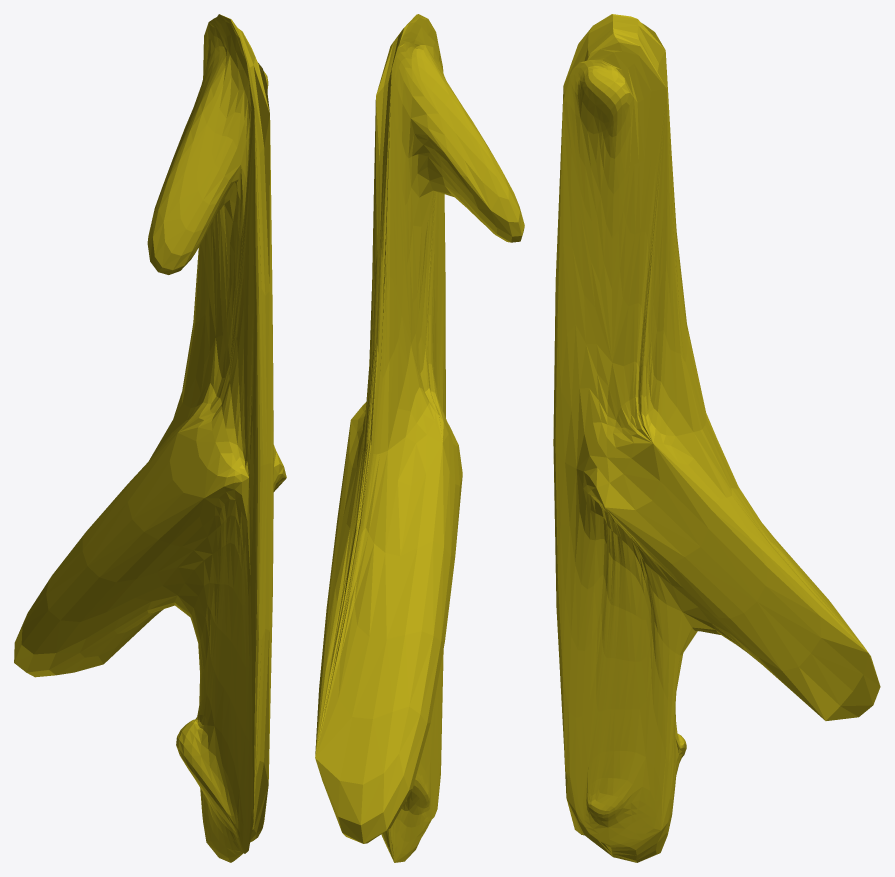
The picture shows the model from 3 angles, left to right: view 1: azimuth 30°, elevation 25°; view 2: azimuth 150°, elevation 25°; view 3: azimuth 270°, elevation 25°; orthographic projection.
Parts seen in each view (by area): view 1: 190_Cube.788; view 2: 190_Cube.788; view 3: 190_Cube.788.
Part boxes in pixels (left/top/right/bottom): 190_Cube.788: left=14, top=14, right=286, bottom=862; 190_Cube.788: left=315, top=14, right=524, bottom=862; 190_Cube.788: left=553, top=14, right=880, bottom=862.
Bounding box in the file's own units: 2.22 × 11.8 × 4.13.
